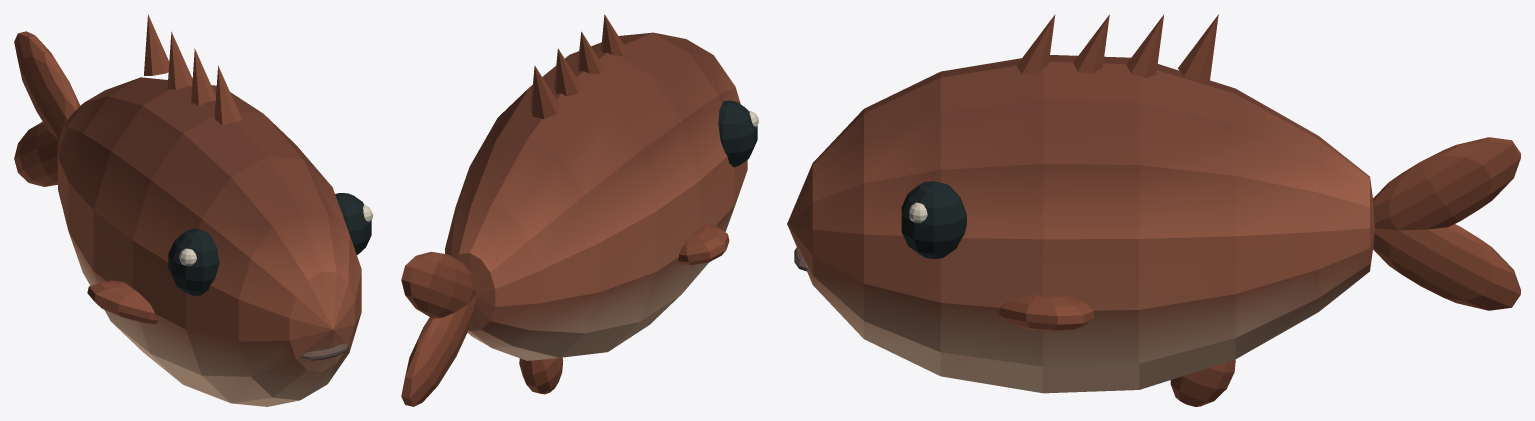
Rendered from komachi-rockfish.glb.
3 renders of one model, left to right at view 1: azimuth 30°, elevation 25°; view 2: azimuth 150°, elevation 25°; view 3: azimuth 270°, elevation 25°, orthographic. The views are drawn at different scales.
Parts seen in each view (by area): view 1: Fish_Body, Fish_Tail_Fin; view 2: Fish_Body, Fish_Tail_Fin; view 3: Fish_Body, Fish_Tail_Fin.
Part boxes in pixels (x1,y1,x2,y2): Fish_Body: (57, 14, 372, 406); Fish_Tail_Fin: (14, 31, 80, 186); Fish_Body: (445, 14, 758, 394); Fish_Tail_Fin: (401, 251, 475, 406); Fish_Body: (787, 14, 1374, 406); Fish_Tail_Fin: (1373, 137, 1520, 310).
Size of the model in its own units: 0.0932 by 0.1214 by 0.2062.
